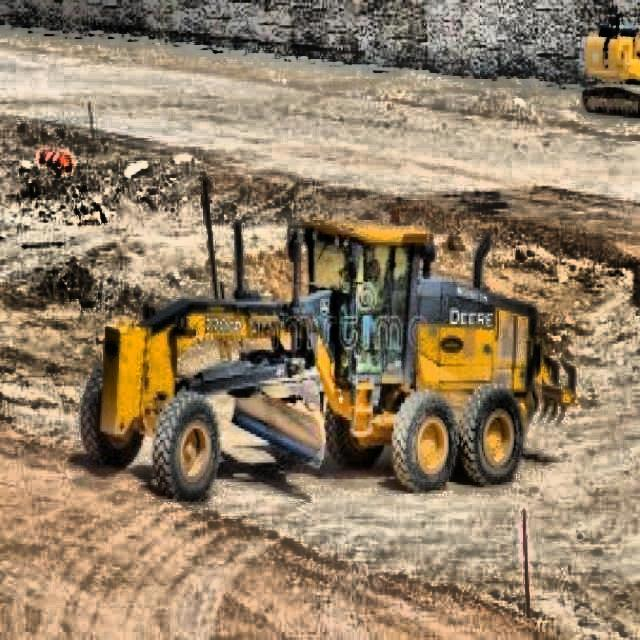bull_dozer/loader/grader: (79, 174, 576, 504), (580, 10, 640, 119)
person: (363, 259, 391, 364)
